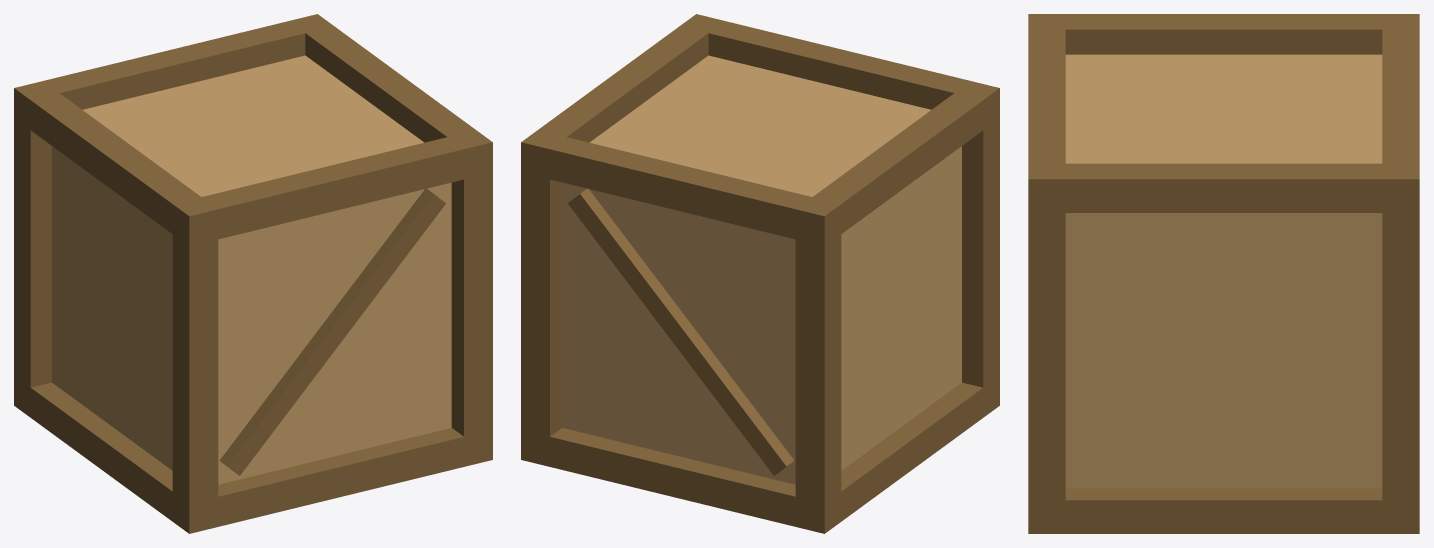
Rendered from crate.glb.
3 views of the same model, side by side, from view 1: azimuth 30°, elevation 25°; view 2: azimuth 150°, elevation 25°; view 3: azimuth 270°, elevation 25° (orthographic). The views are drawn at different scales.
Visible parts, largest first — view 1: crate_structure; view 2: crate_structure; view 3: crate_structure.
Boxes of the visible parts, x1,y1,x2,y2 form: crate_structure: [14, 14, 492, 533]; crate_structure: [521, 14, 999, 533]; crate_structure: [1028, 14, 1419, 533].
Bounding box in the file's own units: 1 × 1 × 1.
